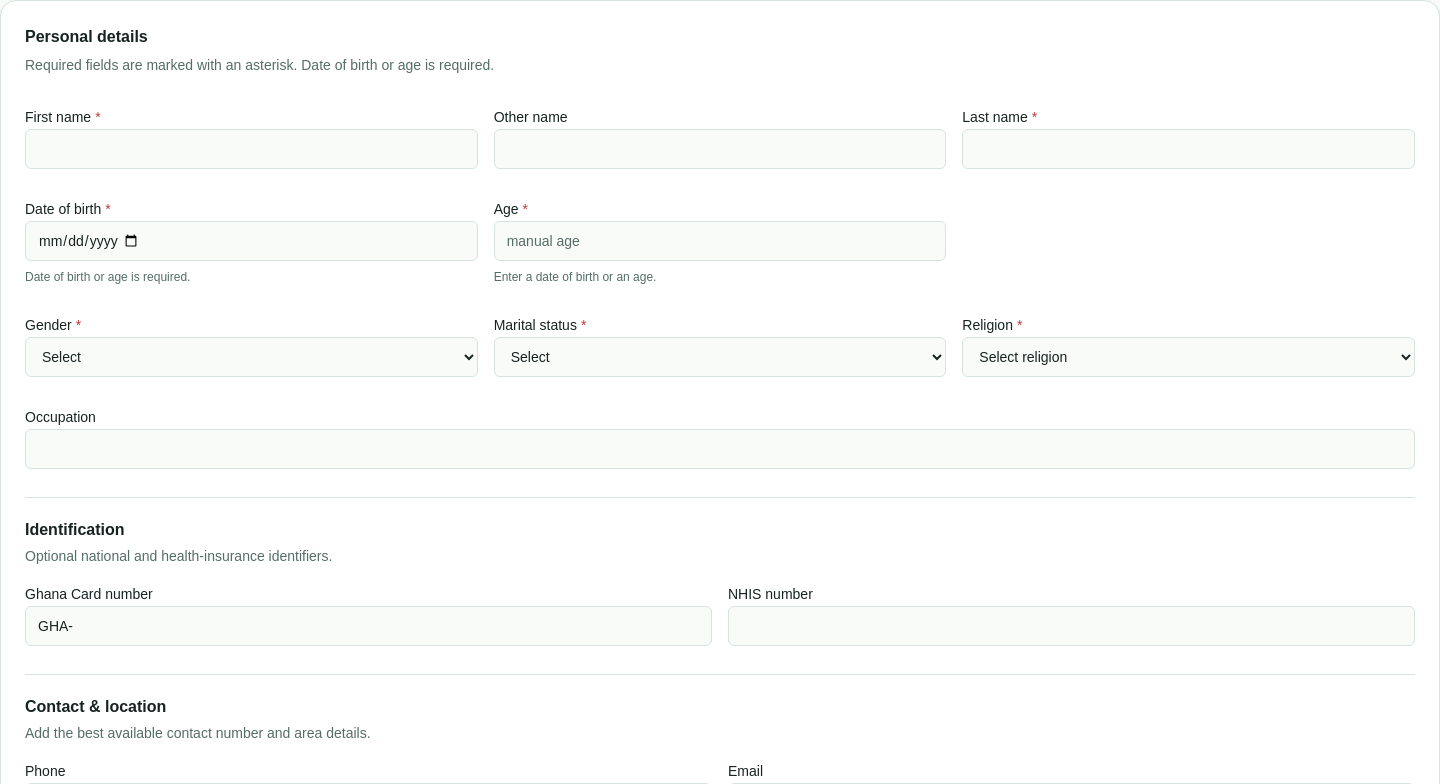
PatientForm defaults and guidance › marks required labels and describes a manually entered age
Expected: the text "*" next to "First name" is shown, 95,109 -> 101,125
Expected: the text "*" next to "Last name" is shown, 1032,109 -> 1037,125
Type "38" into the number field labelled "Age*" at (720, 241), box 494,221 -> 946,261
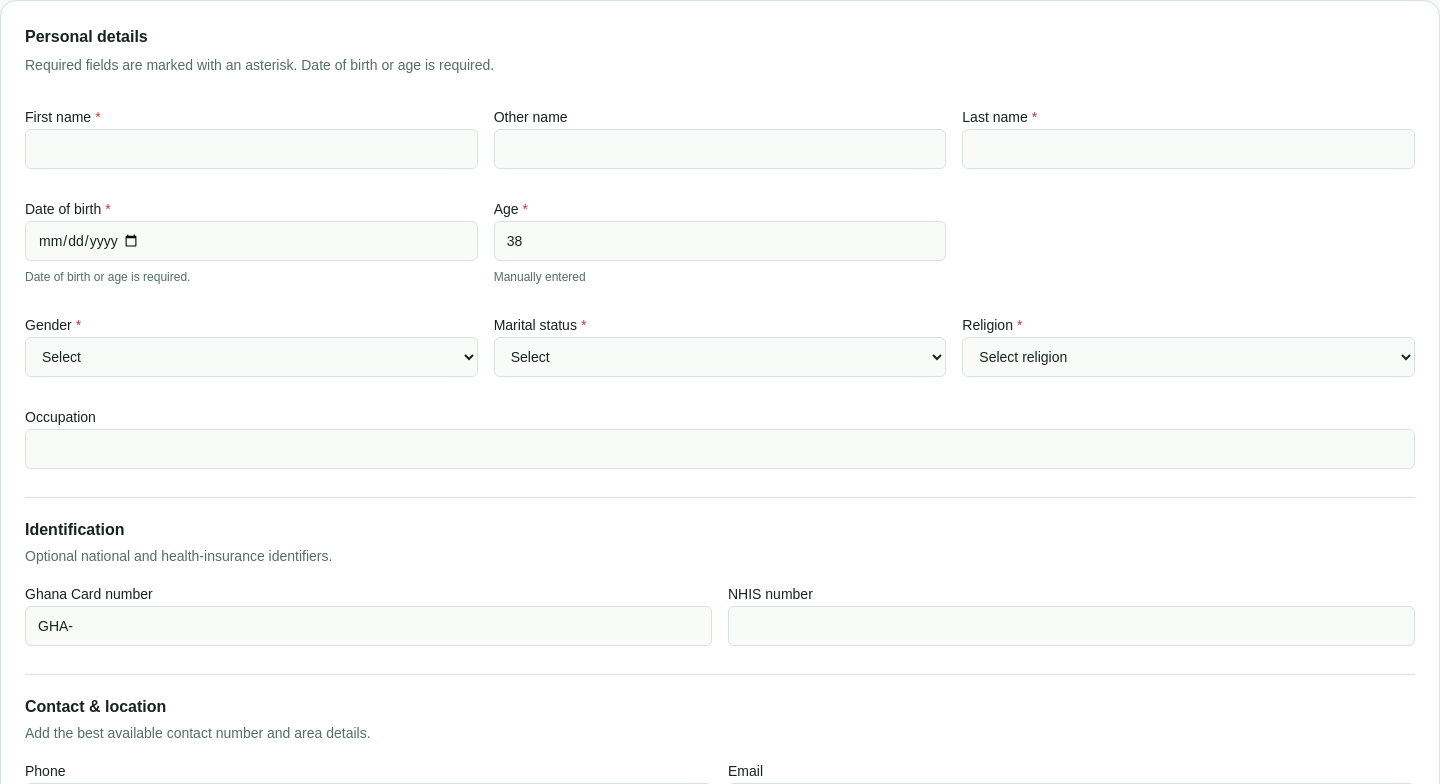
Now the text "Manually entered" is shown, box 494,270 -> 586,284
